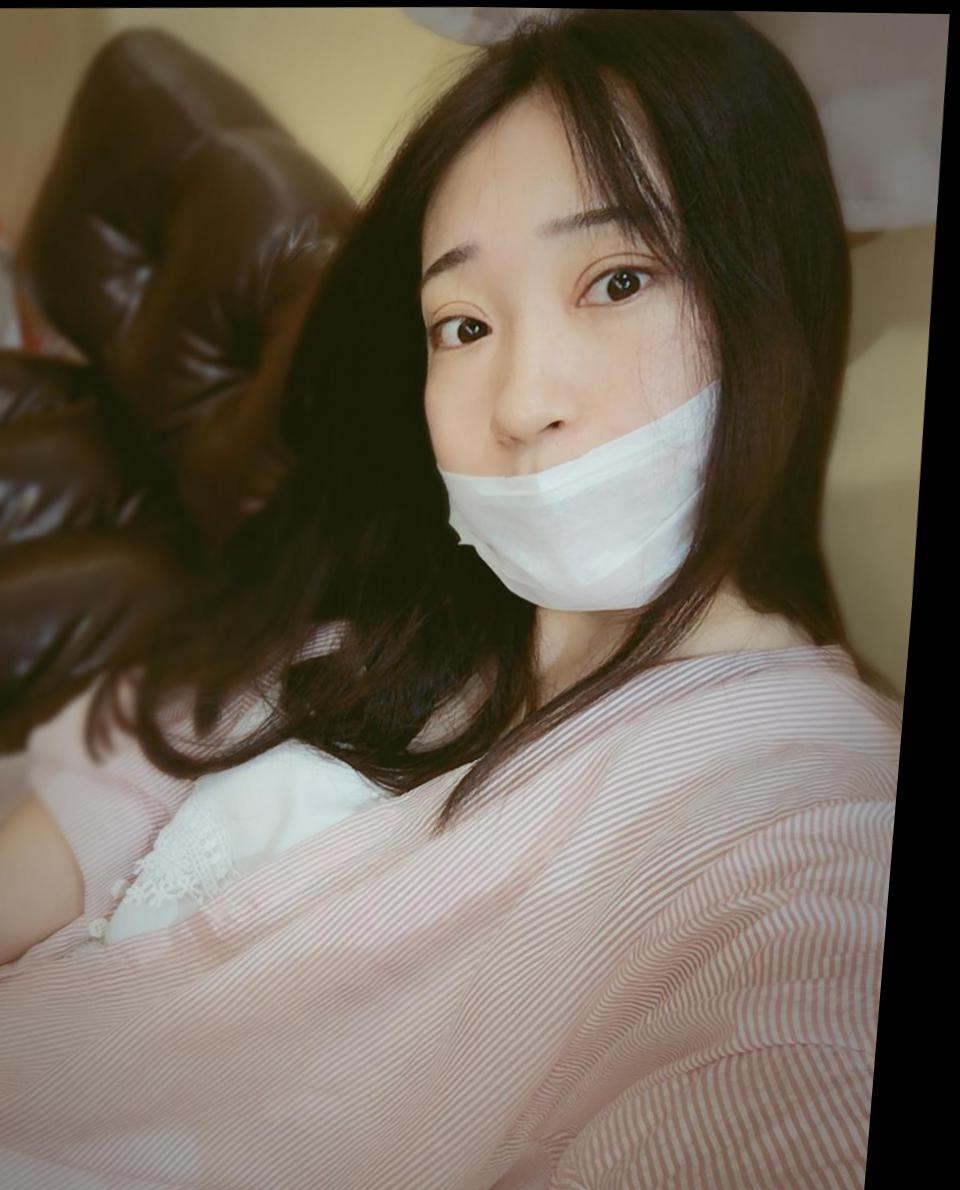WRONG: (392, 162, 793, 628)
